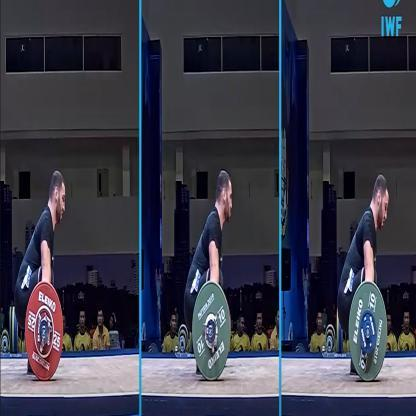barbell: (348, 279, 389, 385), (24, 279, 65, 382), (191, 281, 232, 382)
